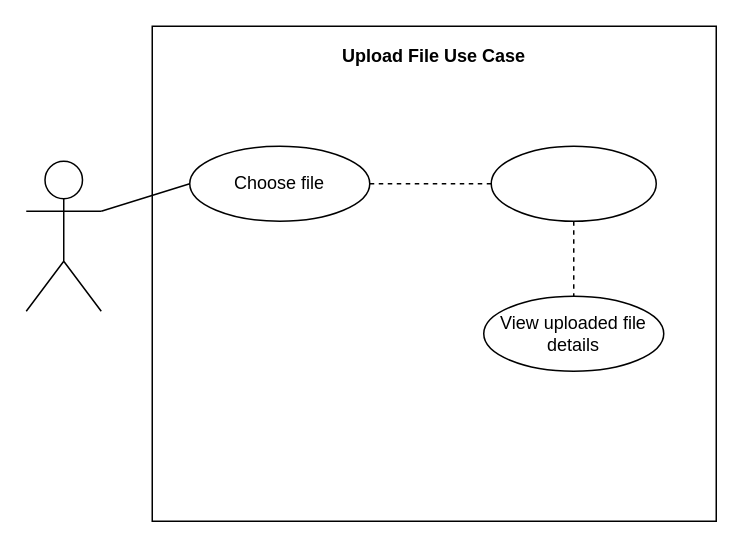
This 743x548 diagram has some shape labels left out. The centre of each missing label's shape, as x and y in pixels:
"Submit file" goes at (x=573, y=183).
"User" goes at (x=63, y=235).
